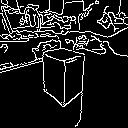cube: (32, 44, 91, 105)
